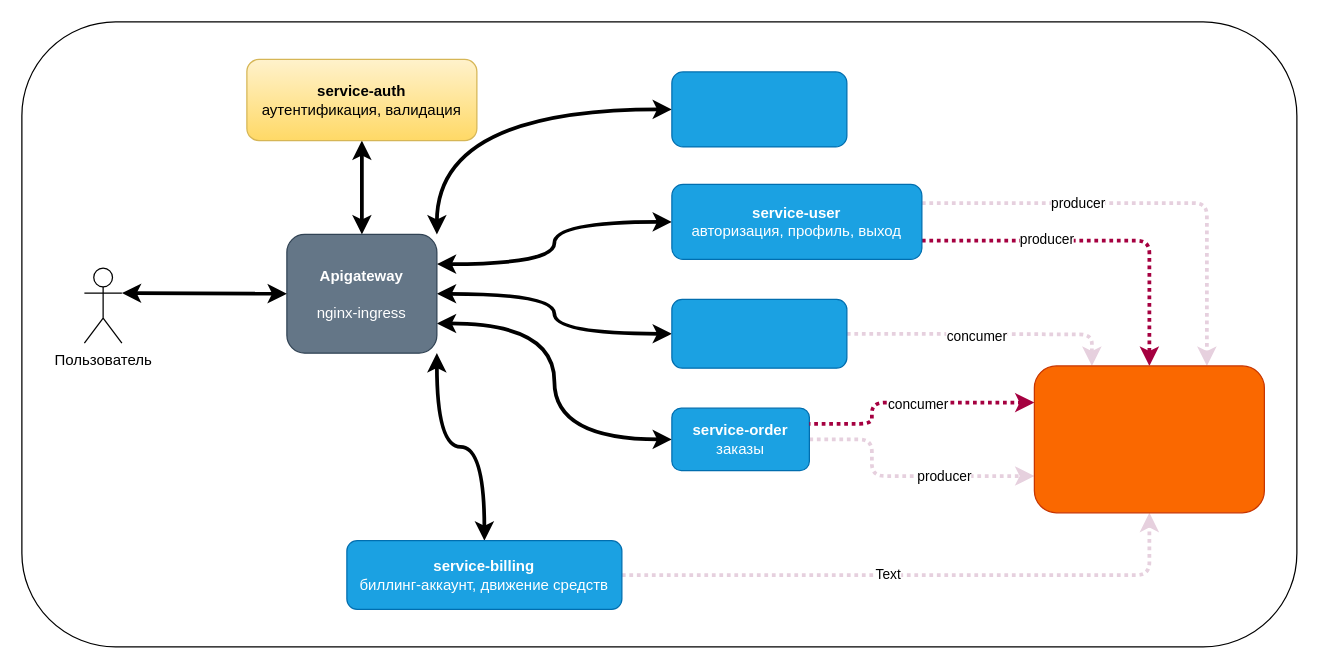
The diagram is 1319 pixels wide and 669 high, and some of its shapes have lost their labels. Each missing label, with the box of its shape:
php-app ui пользователя: (671, 71, 847, 147)
RabbitMQ брокер сообщений, асинхронное взаимодействие сервисов: (1033, 365, 1264, 513)
service-notification оповещения: (671, 298, 847, 368)
